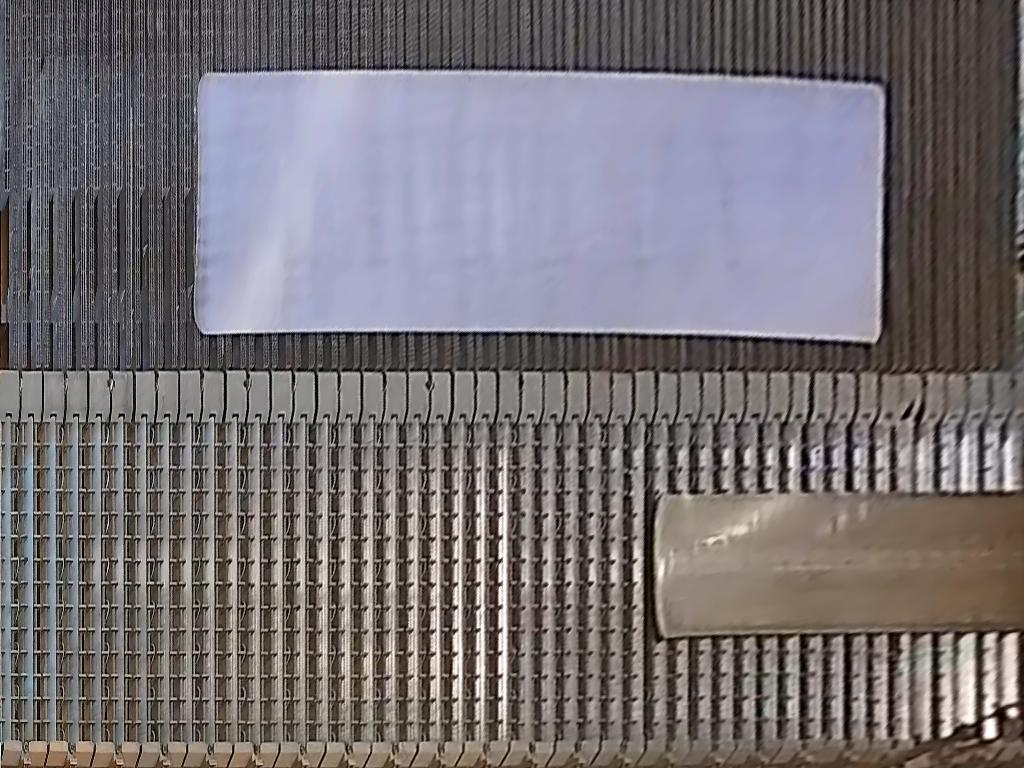steel: (195, 71, 882, 344), (650, 493, 1024, 637)
